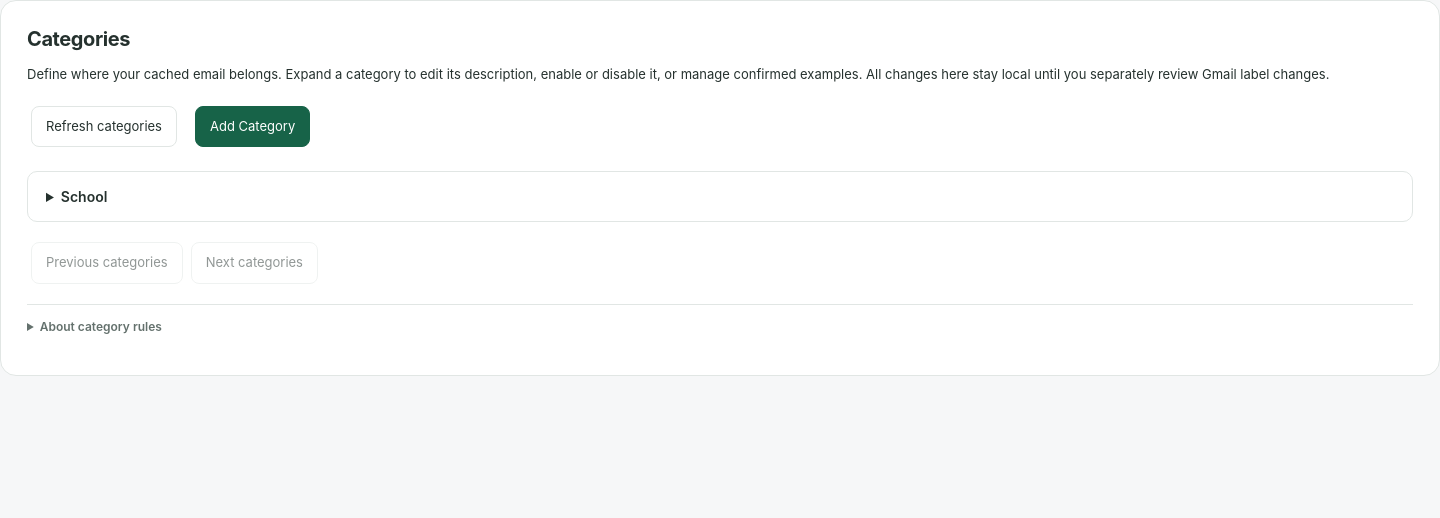
clears categories when the account is no longer authorized
Click the heading "School" at (84, 197), box x1=61 y1=188 x2=107 y2=205
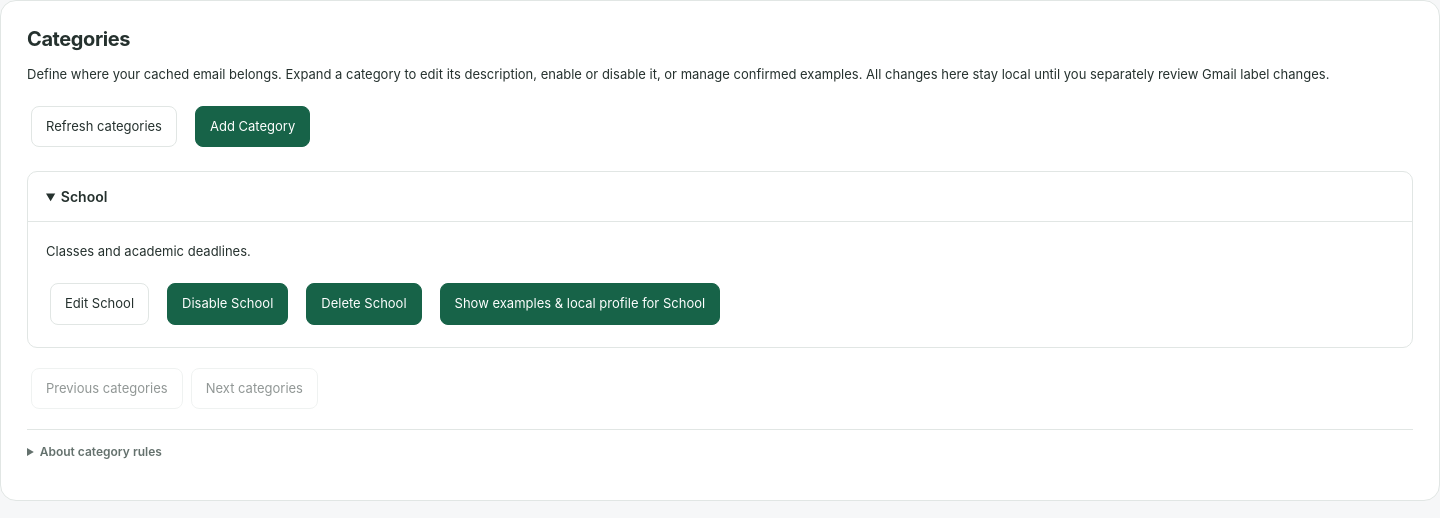
Click the button "Refresh categories" at (104, 127), box x1=31 y1=106 x2=177 y2=147
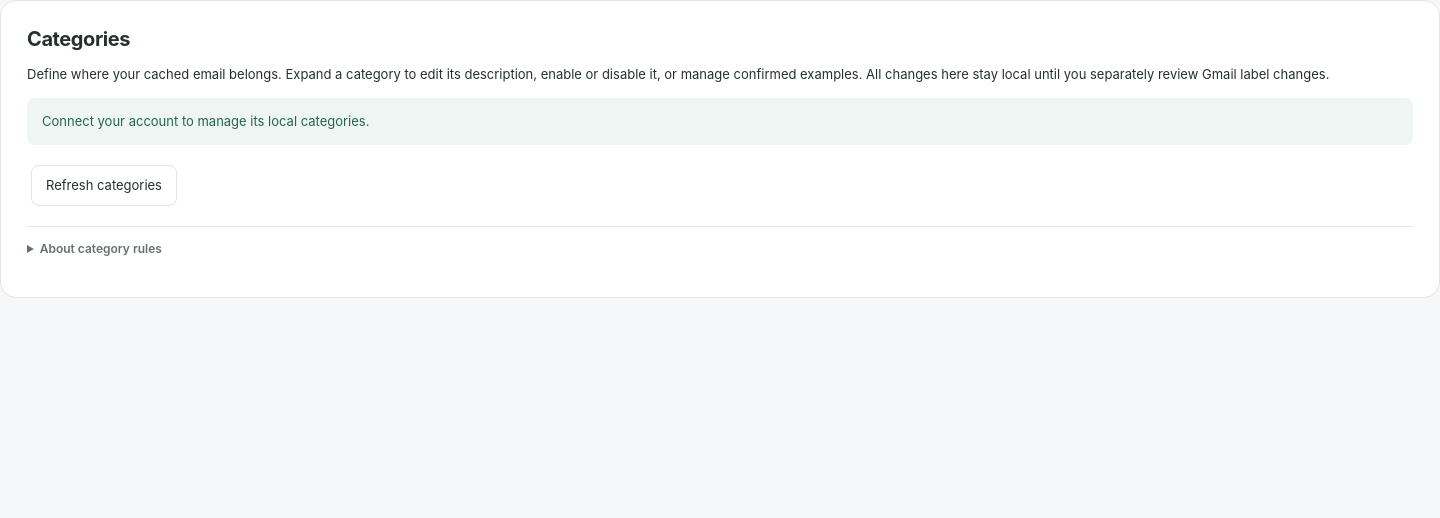
Now the text "Connect your account to manage its local categories." is shown, box x1=27 y1=98 x2=1413 y2=145
Now the heading "School" is gone
